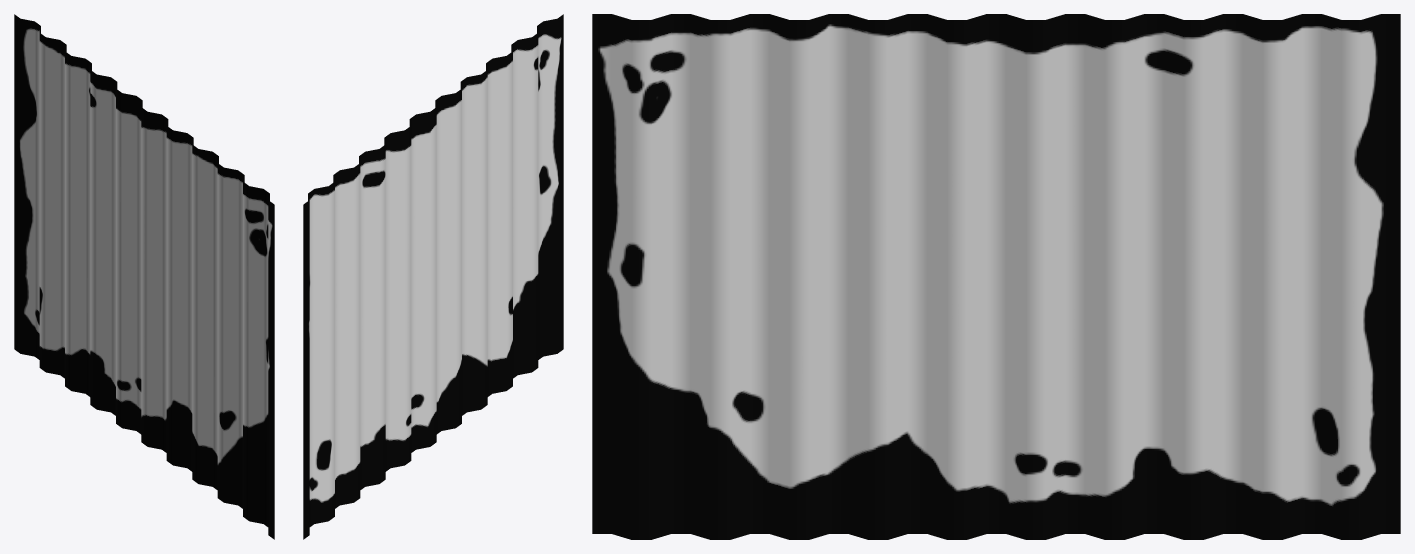
Rendered from MetalPlate6.FBX.
3 renders of one model, left to right at view 1: azimuth 30°, elevation 25°; view 2: azimuth 150°, elevation 25°; view 3: azimuth 270°, elevation 25°, orthographic. The views are drawn at different scales.
Parts seen in each view (by area): view 1: MetalPlate6; view 2: MetalPlate6; view 3: MetalPlate6.
Boxes of the visible parts, left/top/right/bottom form: MetalPlate6: left=14, top=14, right=274, bottom=539; MetalPlate6: left=303, top=14, right=563, bottom=539; MetalPlate6: left=592, top=14, right=1400, bottom=539.
Bounding box in the file's own units: 1.48 × 85.21 × 60.47.
